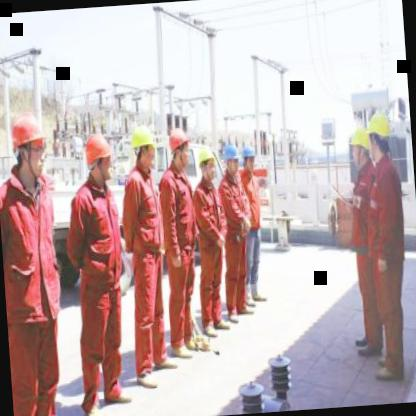helmet: (7, 106, 52, 184), (82, 129, 117, 188), (128, 120, 159, 176), (344, 122, 372, 176), (365, 109, 393, 158), (168, 126, 194, 174), (221, 138, 242, 175), (198, 144, 219, 180), (240, 144, 258, 180)
